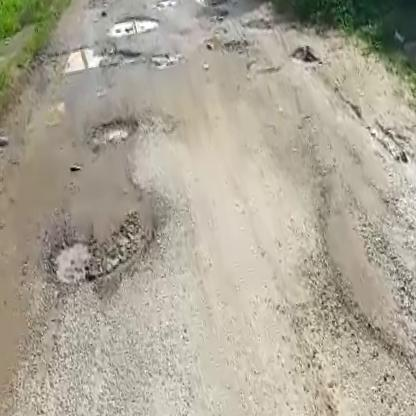pothole: (41, 211, 152, 292), (42, 43, 106, 80), (87, 113, 143, 150), (103, 14, 161, 40)
